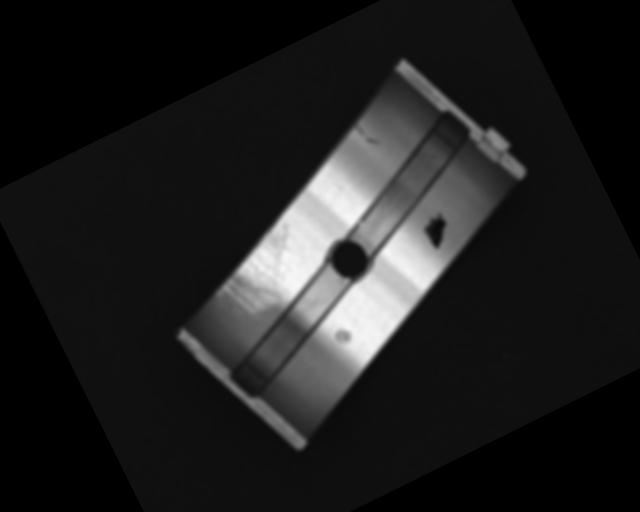blot: (417, 208, 456, 251)
bruise: (332, 324, 354, 347)
gap: (321, 108, 502, 263), (204, 257, 379, 404)
hole: (321, 228, 379, 288)
nick: (326, 169, 352, 206), (353, 116, 380, 149)
scratch: (195, 214, 320, 328)
